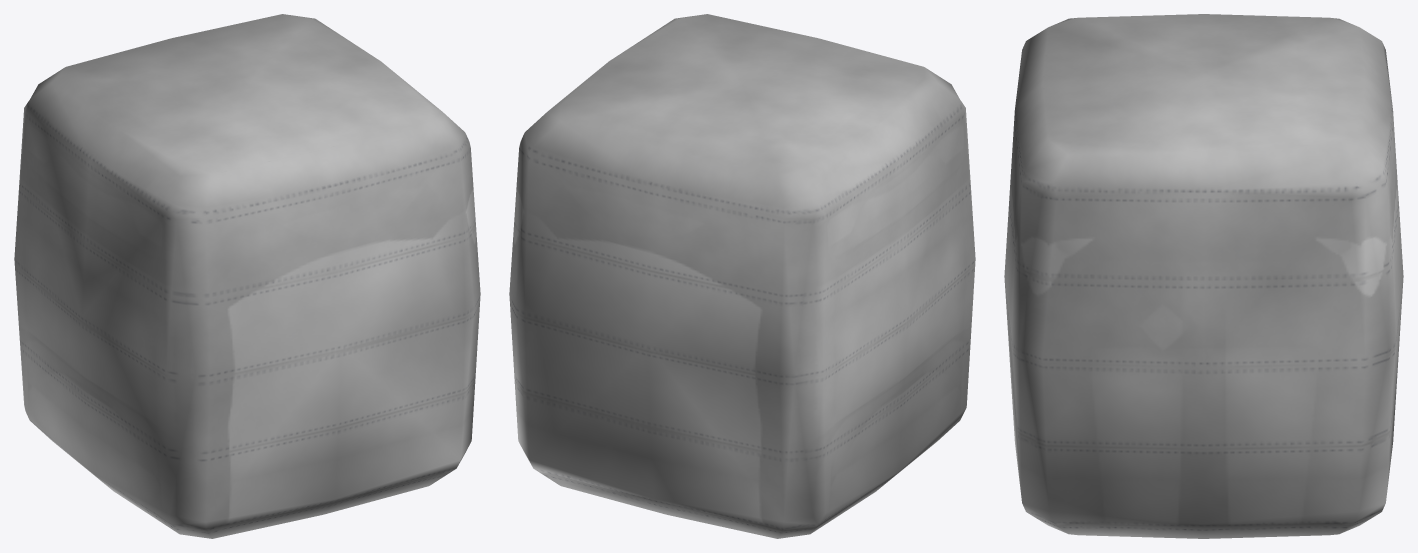
The model's file is LeftUpperLeg_C1.fbx.
3 views of the same model, side by side, from view 1: azimuth 30°, elevation 25°; view 2: azimuth 150°, elevation 25°; view 3: azimuth 270°, elevation 25° (orthographic). The views are drawn at different scales.
Parts seen in each view (by area): view 1: Civ_PilotoLargo_LeftUpperLeg_C1; view 2: Civ_PilotoLargo_LeftUpperLeg_C1; view 3: Civ_PilotoLargo_LeftUpperLeg_C1.
Boxes of the visible parts, x1,y1,x2,y2 form: Civ_PilotoLargo_LeftUpperLeg_C1: (14,14,480,538); Civ_PilotoLargo_LeftUpperLeg_C1: (509,14,975,538); Civ_PilotoLargo_LeftUpperLeg_C1: (1004,14,1403,538).
Size of the model in its own units: 1.42 by 1.58 by 1.4.
